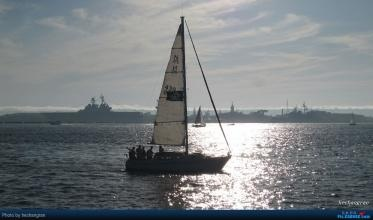fanchuan: (122, 12, 230, 176)
